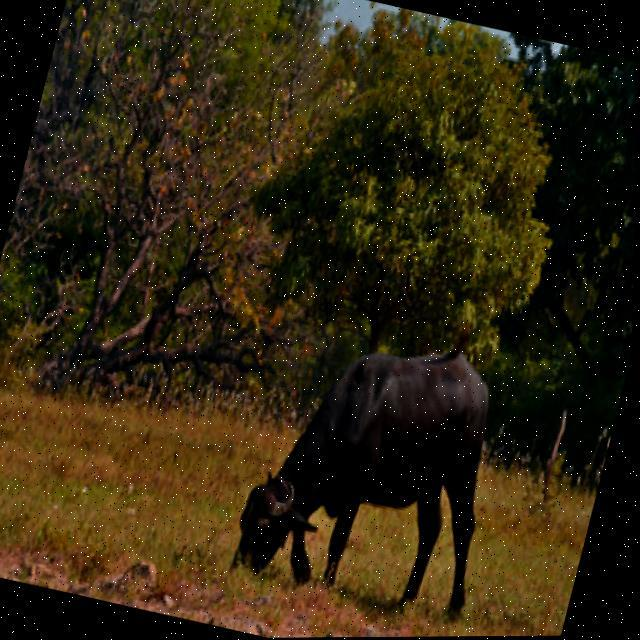Buffalo: (220, 297, 531, 627)
